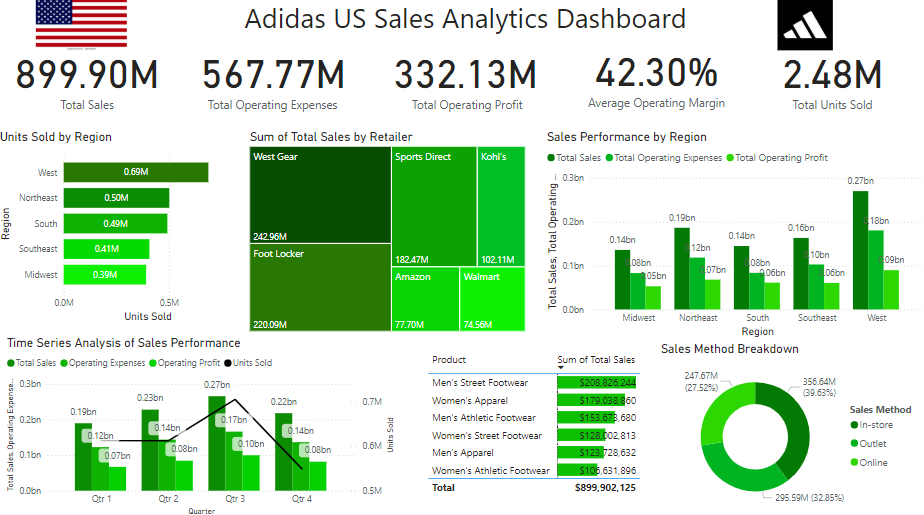

What the dashboard file says about the page in this screenshot:
{"tool":"powerbi","page":{"name":"Page 1","canvas":[1280,720],"ordinal":0},"visuals":[{"type":"textbox","box":[9.6,0,1270.4,81],"z":0},{"type":"card","fields":{"Values":["Sum(Data.Total Sales)"]},"box":[9.6,57.7,230.7,109.9],"z":1000},{"type":"card","fields":{"Values":["Sum(Data.Operating Profit)"]},"box":[532.9,57.7,223.9,109.9],"z":2000},{"type":"card","fields":{"Values":["Sum(Data.Units Sold)"]},"box":[1039.7,57.7,218.4,109.9],"z":3000},{"type":"card","fields":{"Values":["Sum(Data.Operating Expenses)"]},"box":[263.7,57.7,232.1,109.9],"z":4000},{"type":"clusteredColumnChart","title":"Sales Performance by Region","fields":{"Category":["Data.Region","Data.State","Data.City"],"Y":["Sum(Data.Total Sales)","Sum(Data.Operating Expenses)","Sum(Data.Operating Profit)"]},"box":[751.2,184,528.8,291.2],"z":5000},{"type":"barChart","title":"Units Sold by Region","fields":{"Category":["Data.Region","Data.State","Data.City"],"Y":["Sum(Data.Units Sold)"],"Series":["Data.Region"]},"box":[0,184,343.3,270.6],"z":6000},{"type":"lineClusteredColumnComboChart","title":"Time Series Analysis of Sales Performance","fields":{"Y":["Sum(Data.Total Sales)","Sum(Data.Operating Expenses)","Sum(Data.Operating Profit)"],"Y2":["Sum(Data.Units Sold)"],"Category":["Data.Invoice Date.Variation.Date Hierarchy.Quarter","Data.Invoice Date.Variation.Date Hierarchy.Month","Data.Invoice Date.Variation.Date Hierarchy.Day"]},"box":[10,467.1,542.9,252.9],"z":7000},{"type":"donutChart","title":"Sales Method Breakdown","fields":{"Category":["Data.Sales Method"],"Y":["Sum(Data.Total Sales)"]},"box":[907.1,475.7,372.9,244.3],"z":8000},{"type":"treemap","fields":{"Group":["Data.Retailer"],"Values":["Sum(Data.Total Sales)"]},"box":[342.9,184.3,388.6,282.9],"z":9000},{"type":"image","box":[46.7,0,140.1,81],"z":10000},{"type":"image","box":[1016.3,0,190.9,81],"z":11000},{"type":"card","title":"Average Operating Margin","fields":{"Values":["Avg(Data.Operating Margin)"]},"box":[804.8,52.2,204.6,115.4],"z":12000},{"type":"tableEx","fields":{"Values":["Data.Product","Sum(Data.Total Sales)"]},"box":[587.8,483.4,307.6,218.4],"z":12001}]}

Visuals, with their boxes in screenshot pixels (x1, y1, x2, y2), scaled from the page's 1280x720 canvas onto the 924x515 screenshot:
textbox: (x1=7, y1=0, x2=923, y2=58)
card - Sum(Data.Total Sales): (x1=7, y1=41, x2=173, y2=120)
card - Sum(Data.Operating Profit): (x1=385, y1=41, x2=546, y2=120)
card - Sum(Data.Units Sold): (x1=751, y1=41, x2=908, y2=120)
card - Sum(Data.Operating Expenses): (x1=190, y1=41, x2=358, y2=120)
"Sales Performance by Region" clusteredColumnChart: (x1=542, y1=132, x2=923, y2=340)
"Units Sold by Region" barChart: (x1=0, y1=132, x2=248, y2=325)
"Time Series Analysis of Sales Performance" lineClusteredColumnComboChart: (x1=7, y1=334, x2=399, y2=514)
"Sales Method Breakdown" donutChart: (x1=655, y1=340, x2=923, y2=514)
treemap - Data.Retailer x Sum(Data.Total Sales): (x1=248, y1=132, x2=528, y2=334)
image: (x1=34, y1=0, x2=135, y2=58)
image: (x1=734, y1=0, x2=871, y2=58)
"Average Operating Margin" card: (x1=581, y1=37, x2=729, y2=120)
tableEx - Data.Product x Sum(Data.Total Sales): (x1=424, y1=346, x2=646, y2=502)
